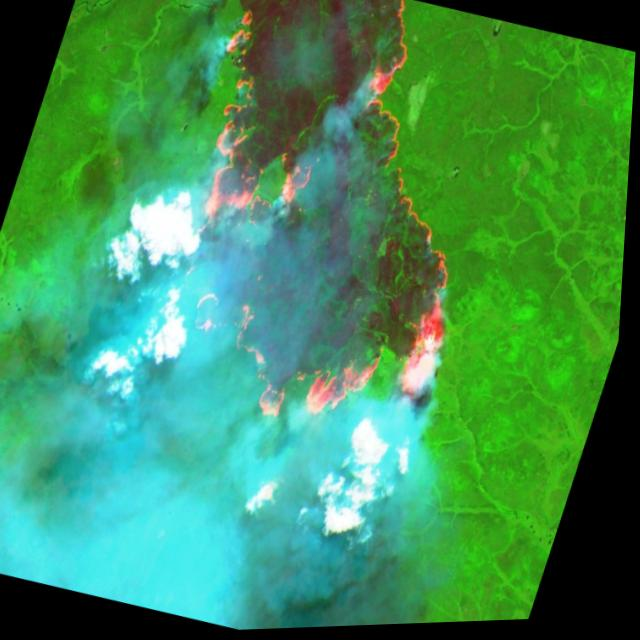fire: (99, 0, 550, 468)
